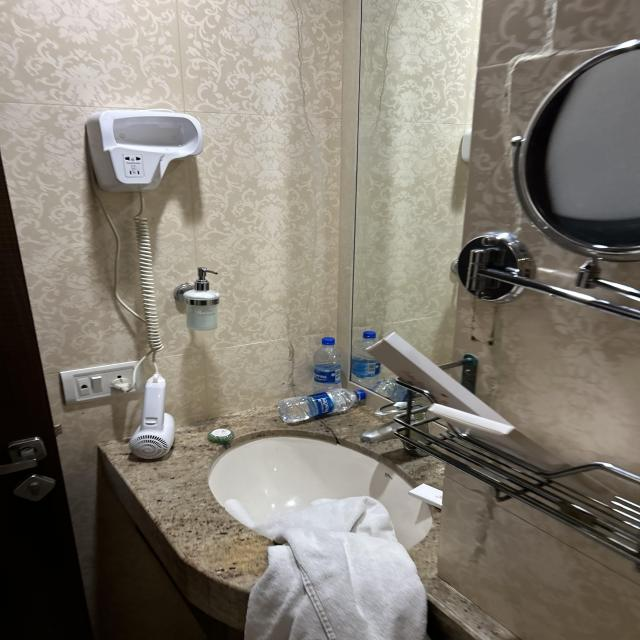mess: (117, 327, 418, 640), (334, 298, 640, 560)
